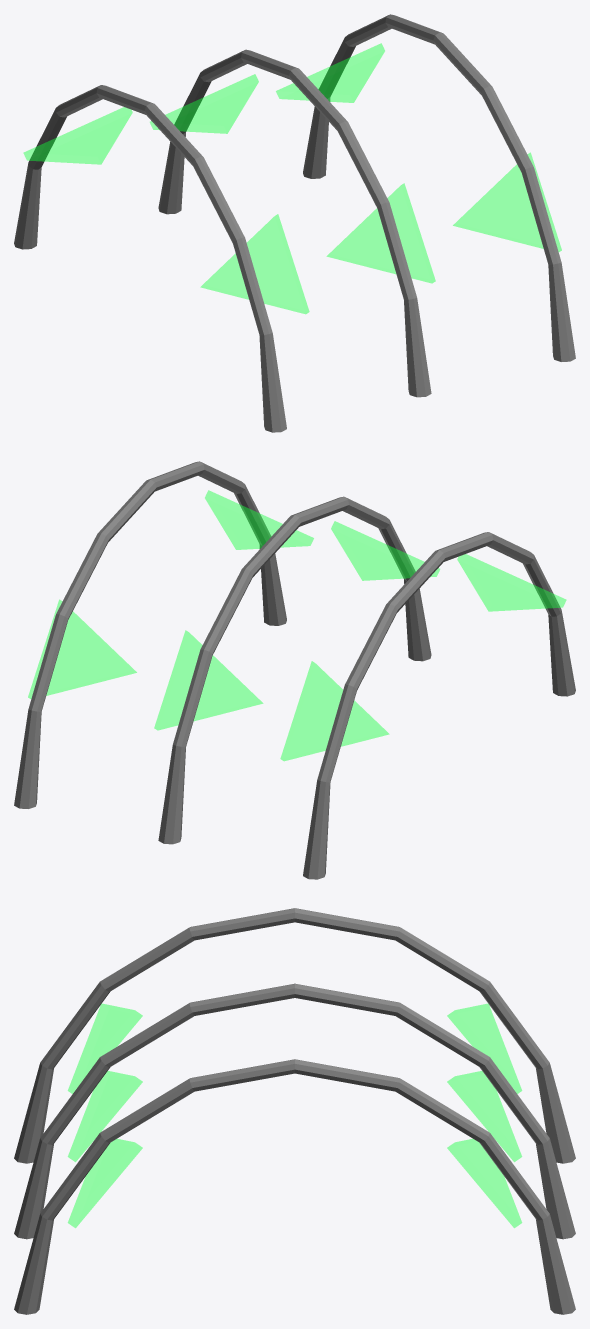
File: boost.fbx
The picture shows the model from 3 angles, top to bottom: view 1: azimuth 30°, elevation 25°; view 2: azimuth 150°, elevation 25°; view 3: azimuth 270°, elevation 25°; orthographic projection. The views are drawn at different scales.
Visible parts, largest first — view 1: Torus, Cube; view 2: Torus, Cube; view 3: Torus, Cube.
Boxes of the visible parts, x1,y1,x2,y2 form: Torus: [14, 14, 575, 432]; Cube: [23, 43, 561, 313]; Torus: [14, 461, 575, 879]; Cube: [28, 490, 566, 760]; Torus: [14, 908, 575, 1314]; Cube: [68, 1004, 521, 1227].
Bounding box in the file's own units: 299 × 194 × 396.
